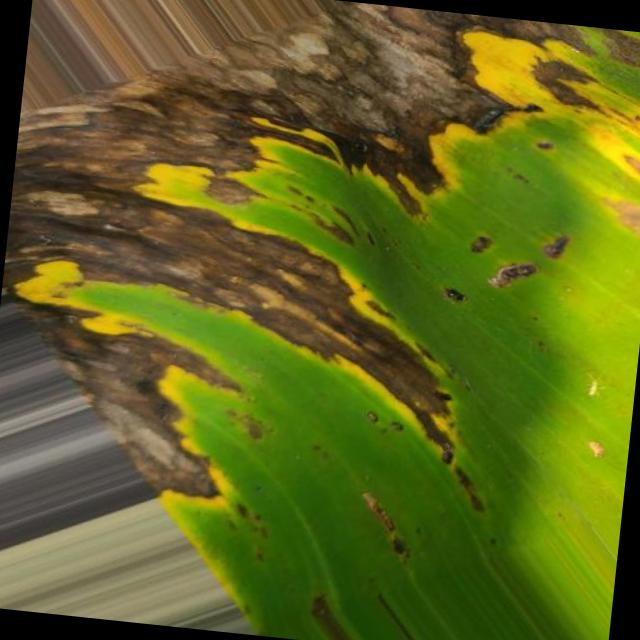Banana_Black_Sigatoka: (0, 114, 506, 553), (175, 0, 640, 242)
